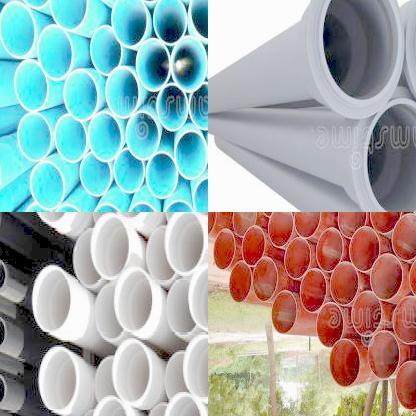pipe: (308, 0, 404, 119), (352, 87, 416, 212), (38, 346, 80, 413), (32, 265, 72, 332), (90, 212, 130, 278), (114, 266, 153, 332), (112, 338, 152, 402), (164, 212, 203, 273), (170, 35, 208, 92), (36, 25, 74, 80), (0, 1, 35, 58), (63, 68, 99, 122), (14, 58, 49, 112), (136, 38, 170, 92), (87, 111, 122, 163), (30, 160, 66, 210), (166, 278, 196, 337), (106, 66, 140, 118), (17, 112, 52, 162), (111, 0, 148, 47), (74, 229, 104, 286), (146, 226, 176, 283), (174, 129, 208, 179), (95, 282, 124, 340), (126, 111, 160, 160), (54, 113, 87, 163), (183, 334, 208, 400), (90, 25, 122, 76), (368, 330, 401, 379), (370, 253, 403, 301), (330, 338, 361, 388), (146, 151, 178, 199), (153, 0, 187, 45), (156, 83, 188, 130), (80, 151, 112, 197), (349, 226, 380, 272), (114, 148, 144, 194), (352, 290, 382, 336), (188, 263, 208, 328), (316, 302, 344, 348), (330, 262, 359, 306), (94, 356, 121, 402), (316, 228, 344, 272), (49, 0, 88, 31), (391, 213, 416, 261), (252, 256, 278, 302), (300, 268, 327, 312), (284, 237, 311, 280), (392, 296, 416, 344), (272, 290, 298, 334), (394, 361, 416, 411), (164, 351, 186, 400), (228, 261, 251, 303), (213, 228, 236, 270), (242, 226, 266, 266), (268, 212, 294, 248), (189, 82, 208, 130), (163, 392, 201, 416), (337, 212, 367, 238), (294, 212, 322, 239), (190, 0, 208, 41), (92, 396, 128, 416), (370, 212, 402, 234), (232, 212, 257, 237), (193, 175, 208, 212), (32, 212, 71, 225), (161, 200, 196, 212), (408, 253, 416, 302), (125, 201, 160, 212), (146, 402, 171, 416), (109, 212, 151, 220), (22, 202, 53, 212), (0, 373, 7, 406), (0, 315, 7, 348), (0, 259, 7, 291), (208, 212, 216, 237)
